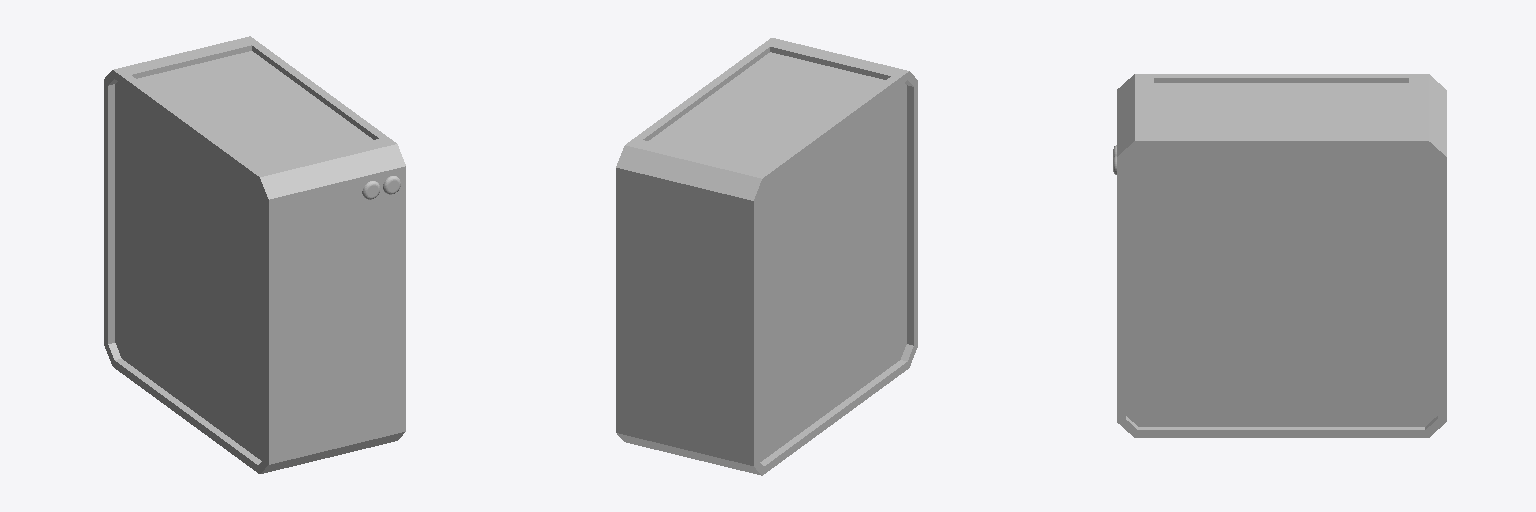
The model's file is Сomp 3.obj.
The picture shows the model from 3 angles: view 1: azimuth 30°, elevation 25°; view 2: azimuth 150°, elevation 25°; view 3: azimuth 270°, elevation 25°; orthographic projection.
Parts seen in each view (by area): view 1: Cube, Cube.001, Cube.002; view 2: Cube, Cube.001, Cube.002; view 3: Cube.001, Cube, Cube.002.
Boxes of the visible parts, x1=… form: Cube: x1=104, y1=36, x2=405, y2=473; Cube.001: x1=115, y1=82, x2=263, y2=460; Cube.002: x1=137, y1=51, x2=372, y2=167; Cube: x1=616, y1=38, x2=917, y2=475; Cube.001: x1=758, y1=83, x2=906, y2=461; Cube.002: x1=649, y1=52, x2=885, y2=168; Cube.001: x1=1126, y1=149, x2=1437, y2=426; Cube: x1=1117, y1=74, x2=1446, y2=437; Cube.002: x1=1154, y1=83, x2=1408, y2=136.
Bounding box in the file's own units: 1.94 × 3.99 × 4.06.